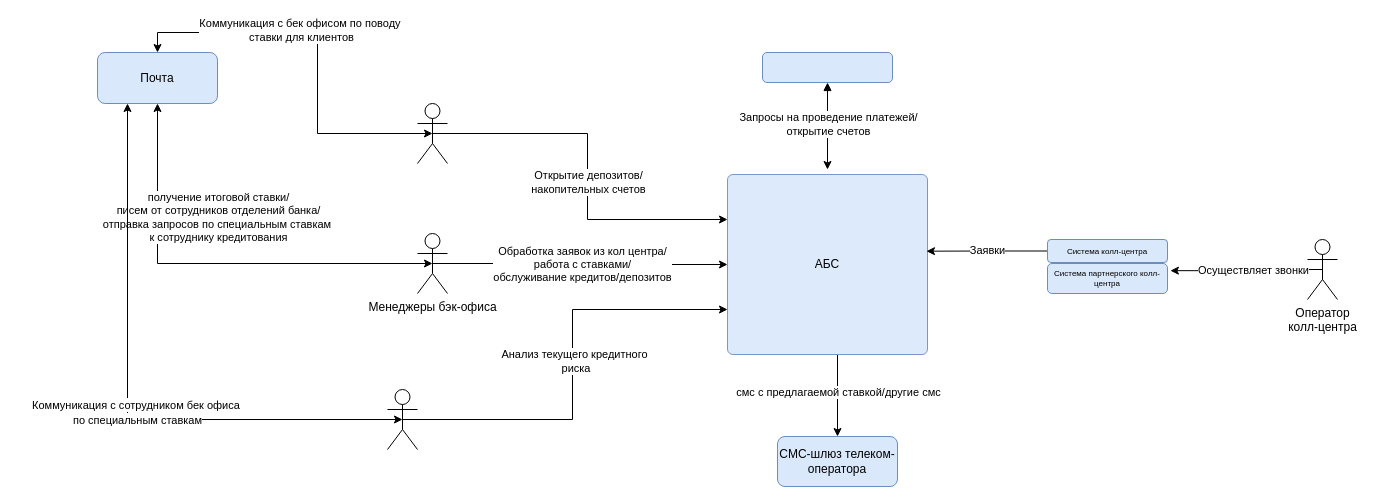
Some shapes in this 1374 by 504 pixel diagram are drawn without their labels. Each missing label, with the centre of its shape:
"Интернет-банк" goes at pixel 827 67.
"Менеджер фронт-офиса" goes at pixel 432 133.
"Сотрудник кредитования" goes at pixel 402 419.
